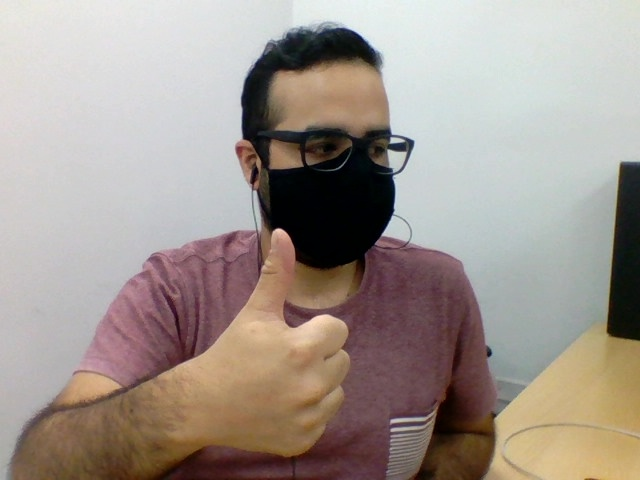ThumbsUp: (204, 227, 352, 460)
